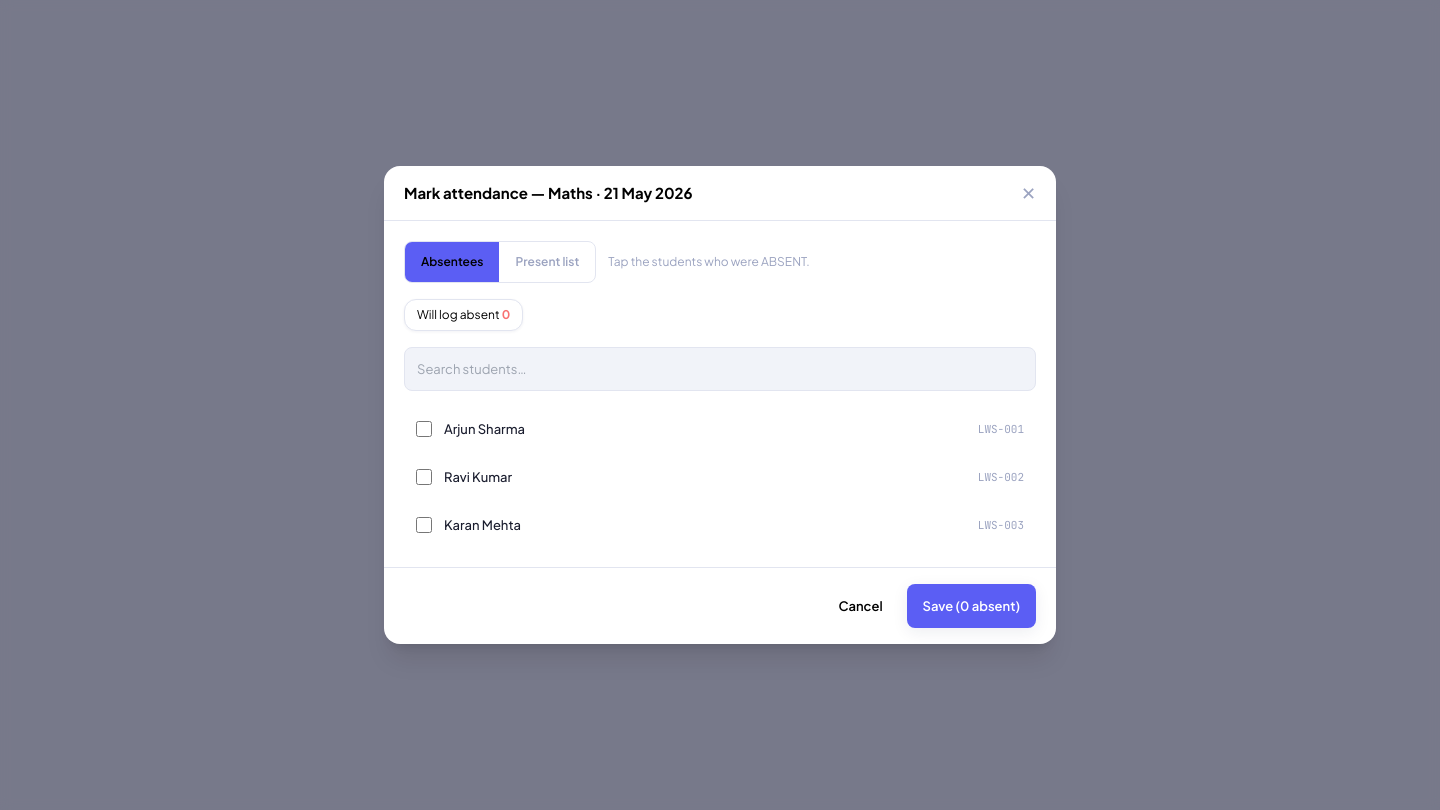
Test: MarkAbsenteesModal › search filters the visible students by name
In the field with placeholder "Search students…": point(720, 369) [404,347,1036,391], type "arj"
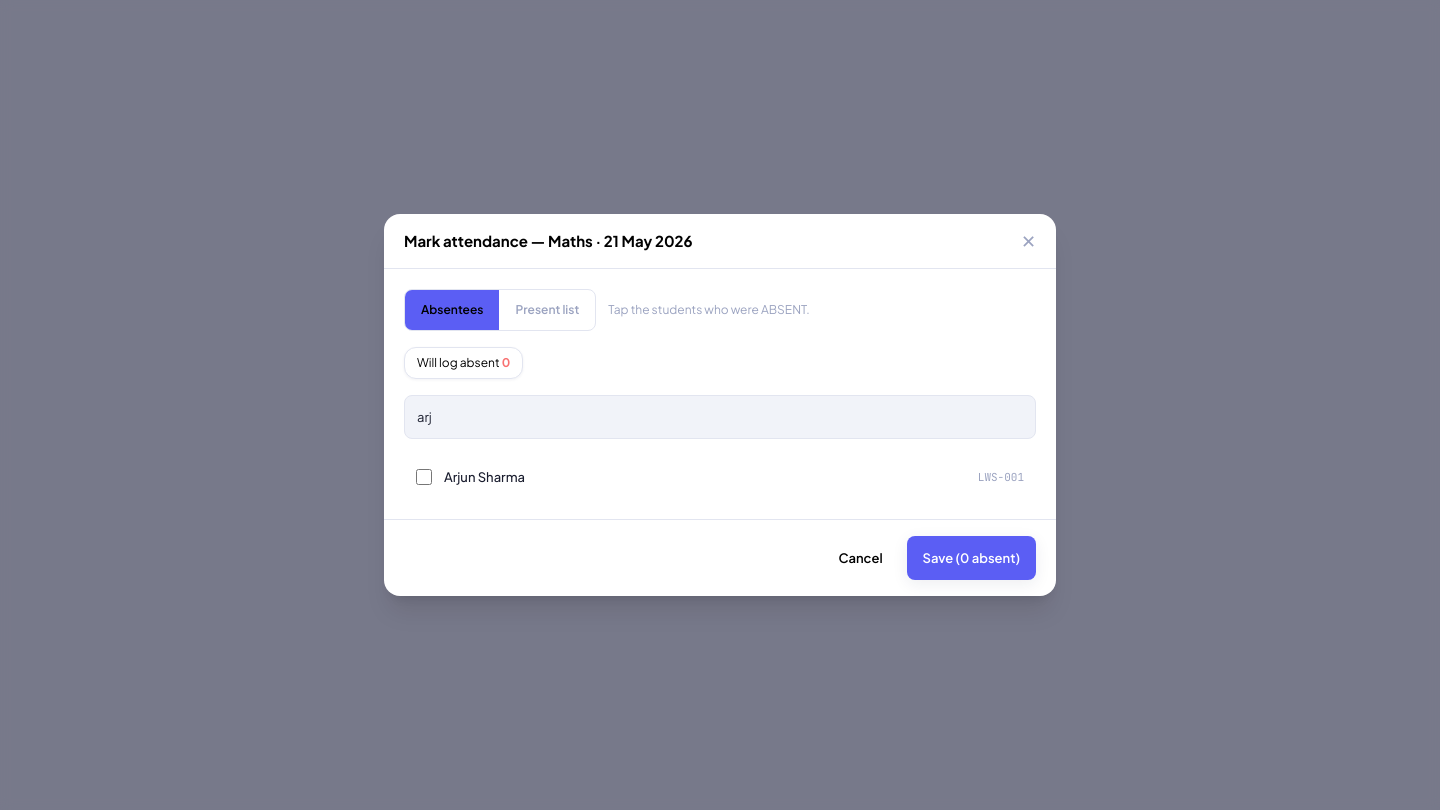
expect the checkbox labelled "Arjun Sharma LWS-001" is shown: met, box [416,469,432,485]
expect the text labelled "Ravi Kumar" is gone: met
expect the text labelled "Karan Mehta" is gone: met
